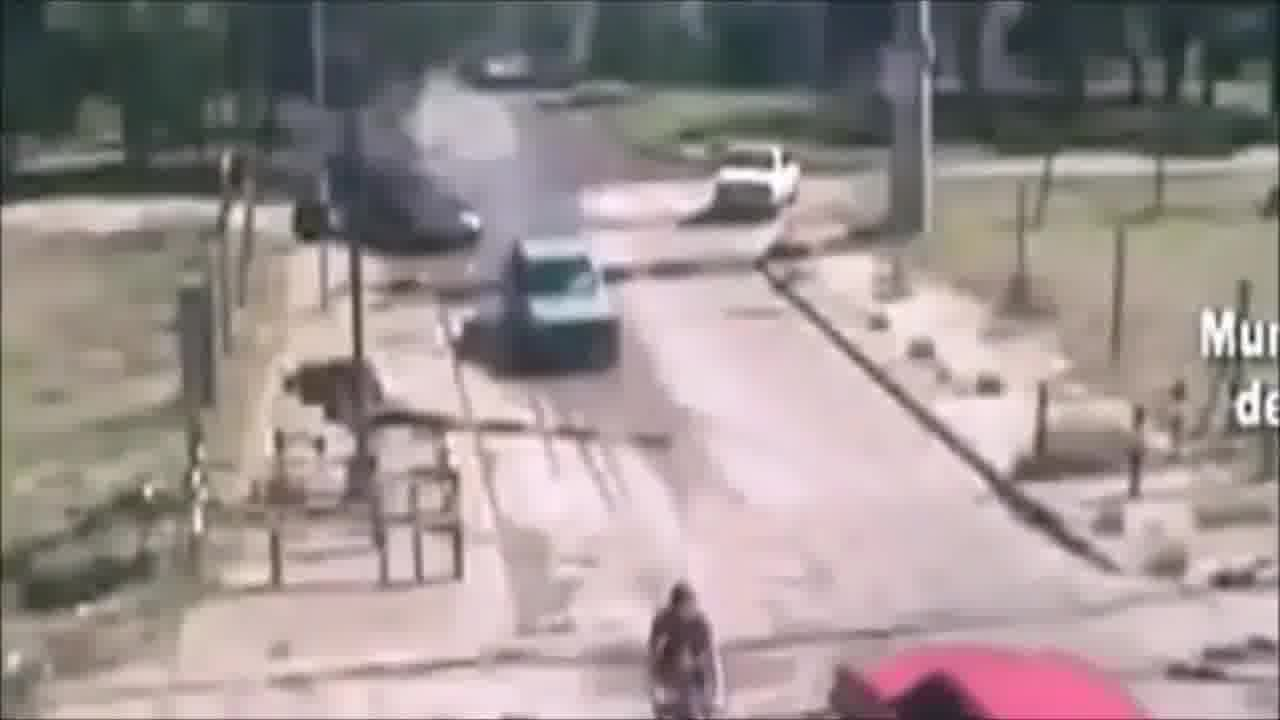crossing railway track: (773, 572, 1180, 720), (585, 545, 764, 720)
